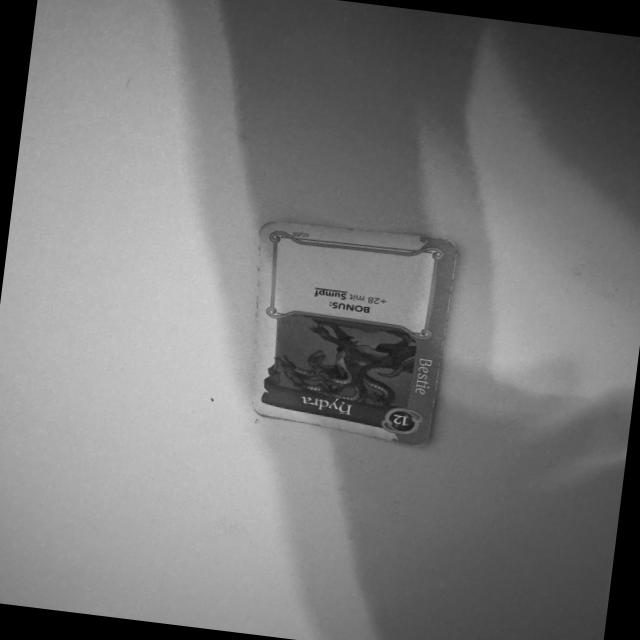Hydra: (249, 218, 463, 447)
